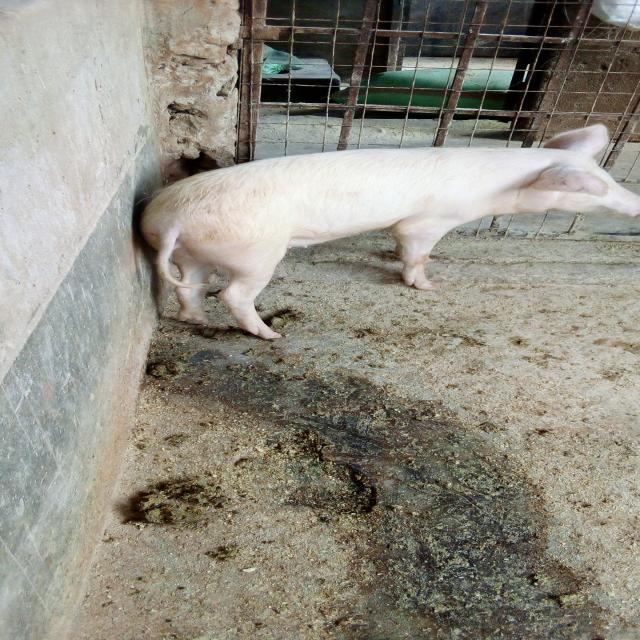pig: (65, 77, 640, 387)
